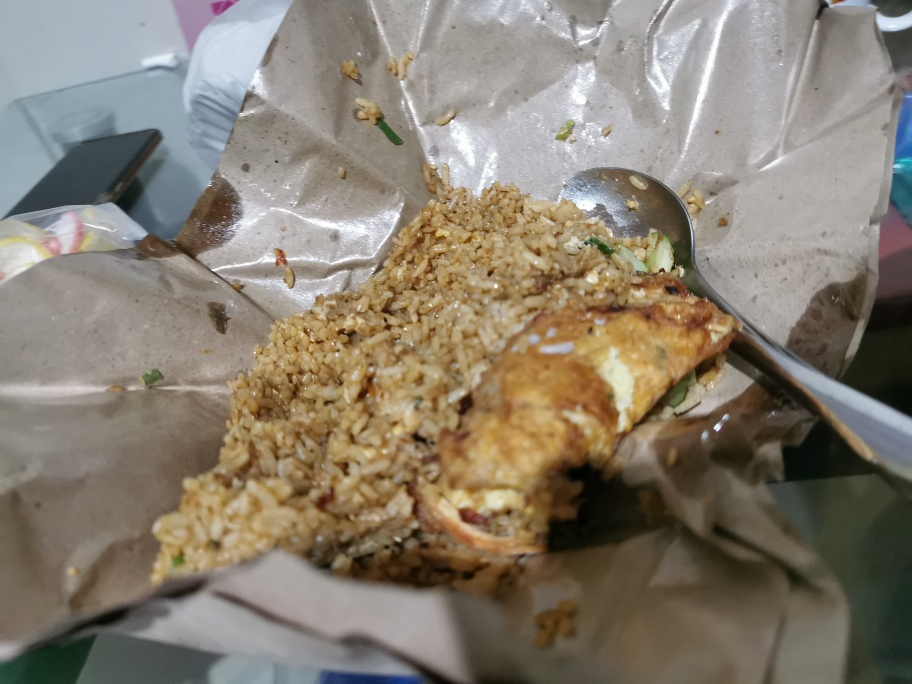nasi goreng: (162, 179, 690, 564)
